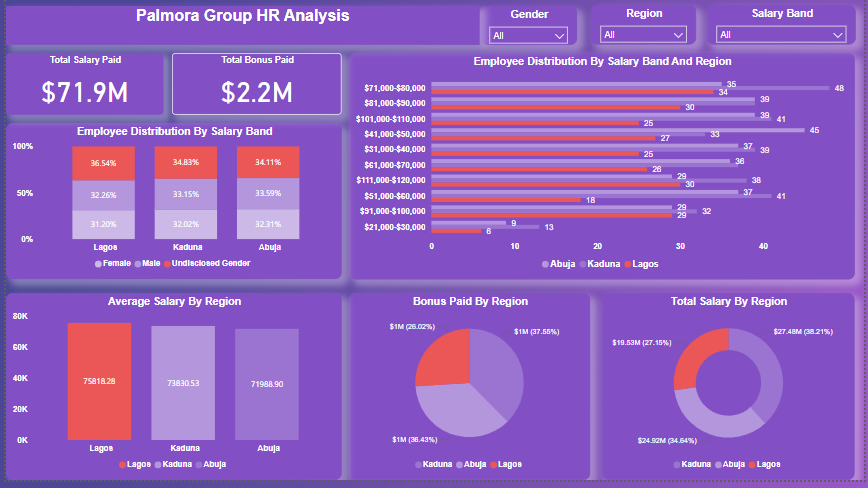

This screenshot's page, from the dashboard's own definition file:
{"tool":"powerbi","page":{"name":"Page 2","canvas":[1280,720],"ordinal":1},"visuals":[{"type":"clusteredBarChart","title":"Employee Distribution By Salary Band And Region","fields":{"Category":["Palmoria Group emp-data.Salary Band"],"Series":["Palmoria Group emp-data.Region"],"Y":["CountNonNull(Palmoria Group emp-data.Region)"]},"box":[512.6,82.1,754.6,338.4],"z":0},{"type":"donutChart","title":"Total Salary By Region","fields":{"Category":["Palmoria Group emp-data.Region"],"Y":["Sum(Palmoria Group emp-data.Total Salary)"]},"box":[889.9,440.6,377.3,279.4],"z":1000},{"type":"slicer","title":"Salary Band","fields":{"Values":["Palmoria Group emp-data.Salary Band"]},"box":[1046.9,10.1,221.8,59],"z":2000},{"type":"slicer","title":"Region","fields":{"Values":["Palmoria Group emp-data.Region"]},"box":[872.6,10.1,157,59],"z":3000},{"type":"slicer","title":"Gender","fields":{"Values":["Palmoria Group emp-data.Gender"]},"box":[707,11.5,145.4,57.6],"z":4000},{"type":"textbox","title":"Palmora Group HR Analysis","box":[0,11.5,707,57.6],"z":5000},{"type":"hundredPercentStackedColumnChart","title":"Employee Distribution By Salary Band","fields":{"Category":["Palmoria Group emp-data.Region"],"Y":["Avg(Palmoria Group emp-data.Salary)"],"Series":["Palmoria Group emp-data.Gender"]},"box":[0,187.2,501.1,233.3],"z":6000},{"type":"card","title":"Total Salary Paid","fields":{"Values":["Sum(Palmoria Group emp-data.Total Salary)"]},"box":[0,82.1,234.7,92.2],"z":7000},{"type":"card","title":"Total Bonus Paid","fields":{"Values":["Sum(Palmoria Group emp-data.Bonus Paid)"]},"box":[247.7,82.1,253.4,92.2],"z":8000},{"type":"pieChart","title":"Bonus Paid By Region","fields":{"Category":["Palmoria Group emp-data.Region"],"Y":["Sum(Palmoria Group emp-data.Bonus Paid)"]},"box":[512.6,440.6,360,279.4],"z":9000},{"type":"columnChart","title":"Average Salary By Region","fields":{"Category":["Palmoria Group emp-data.Region"],"Series":["Palmoria Group emp-data.Region"],"Y":["Avg(Palmoria Group emp-data.Salary)"]},"box":[0,440.6,501.1,279.4],"z":10000}]}

Visuals, with their boxes in screenshot pixels (x1, y1, x2, y2), scaled from the page's 1280x720 canvas onto the 868x488 screenshot:
"Employee Distribution By Salary Band And Region" clusteredBarChart: (348,56,859,285)
"Total Salary By Region" donutChart: (603,299,859,487)
"Salary Band" slicer: (710,7,860,47)
"Region" slicer: (592,7,698,47)
"Gender" slicer: (479,8,578,47)
"Palmora Group HR Analysis" textbox: (0,8,479,47)
"Employee Distribution By Salary Band" hundredPercentStackedColumnChart: (0,127,340,285)
"Total Salary Paid" card: (0,56,159,118)
"Total Bonus Paid" card: (168,56,340,118)
"Bonus Paid By Region" pieChart: (348,299,592,487)
"Average Salary By Region" columnChart: (0,299,340,487)
